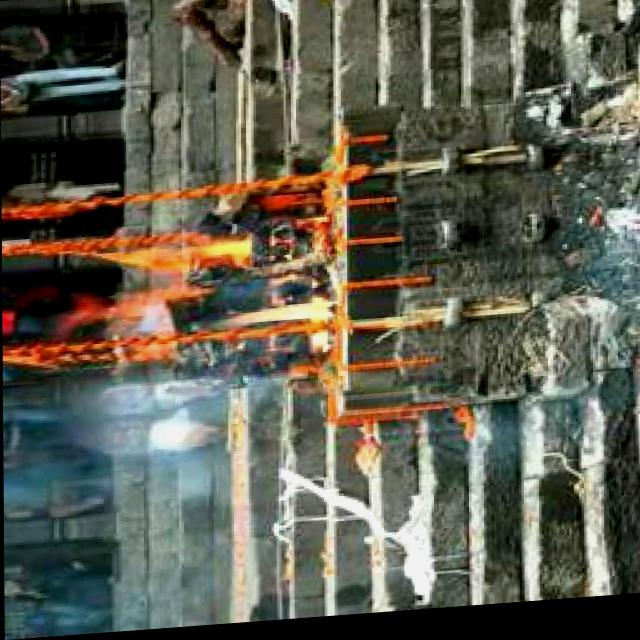helmet: (81, 235, 335, 356)
